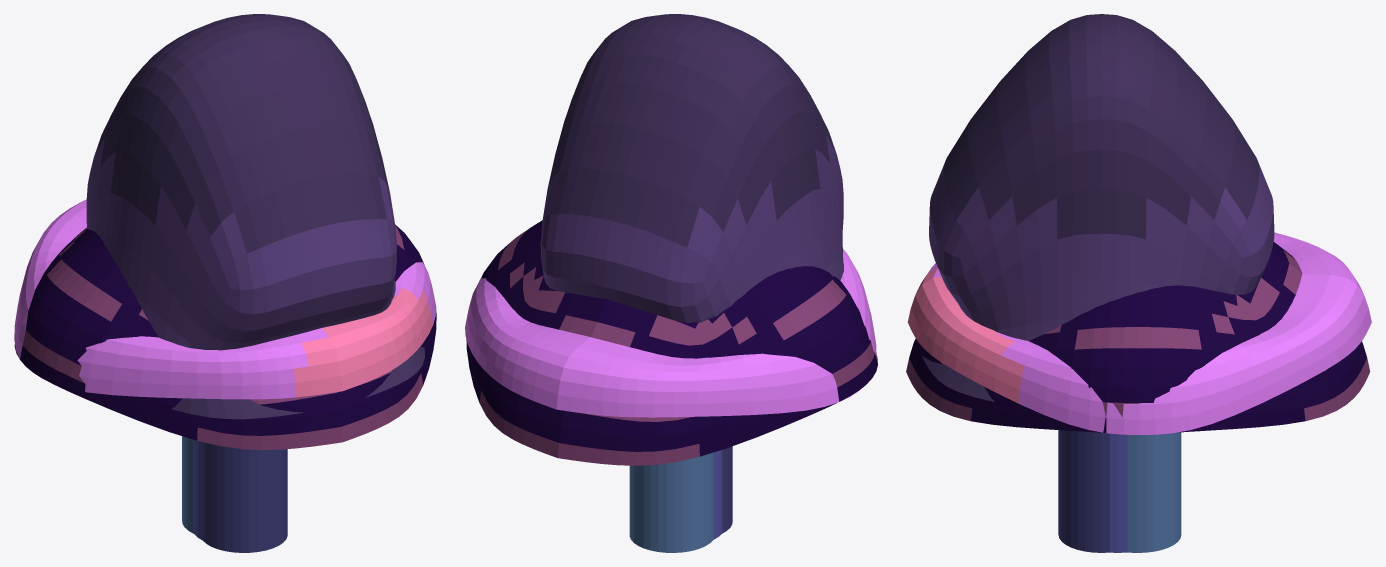
File: mushs.fbx
The picture shows the model from 3 angles, left to right: view 1: azimuth 30°, elevation 25°; view 2: azimuth 150°, elevation 25°; view 3: azimuth 270°, elevation 25°; orthographic projection. The views are drawn at different scales.
Visible parts, largest first — view 1: Mush_4, Mush_2, Mush_3, Mush_1; view 2: Mush_4, Mush_2, Mush_3, Mush_1; view 3: Mush_4, Mush_2, Mush_3, Mush_1.
Part boxes in pixels (box(x1,y1,x2,y2)): Mush_4: box(86, 14, 424, 552); Mush_2: box(14, 224, 436, 530); Mush_3: box(14, 199, 436, 533); Mush_1: box(194, 440, 202, 540); Mush_4: box(540, 14, 843, 533); Mush_2: box(466, 220, 877, 552); Mush_3: box(465, 249, 876, 543); Mush_1: box(713, 450, 722, 539); Mush_4: box(922, 14, 1274, 552); Mush_2: box(906, 242, 1370, 552); Mush_3: box(907, 232, 1371, 552); Mush_1: box(1109, 433, 1126, 552).
Bounding box in the file's own units: 1018 × 1289 × 1076.
